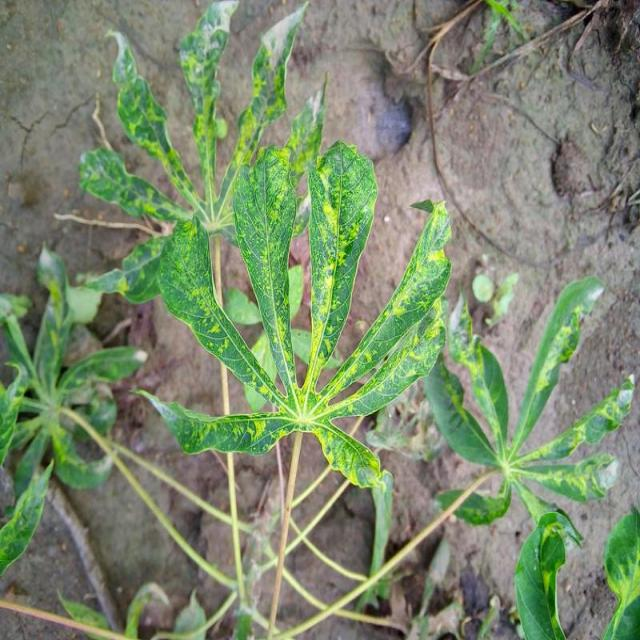cassava leaf: (130, 138, 453, 490), (306, 138, 380, 392), (233, 144, 301, 412)
